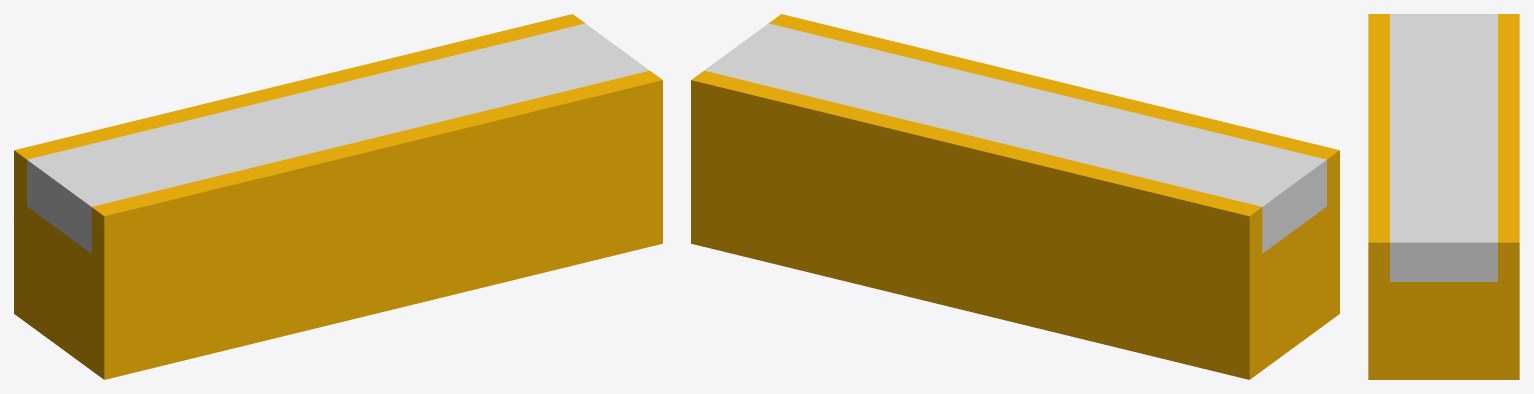
The model's file is light_bar.dae.
3 renders of one model, left to right at view 1: azimuth 30°, elevation 25°; view 2: azimuth 150°, elevation 25°; view 3: azimuth 270°, elevation 25°, orthographic. The views are drawn at different scales.
Visible parts, largest first — view 1: Cube; view 2: Cube; view 3: Cube.
Boxes of the visible parts, x1=… form: Cube: x1=14, y1=14, x2=662, y2=379; Cube: x1=691, y1=14, x2=1339, y2=379; Cube: x1=1368, y1=14, x2=1519, y2=379.
Bounding box in the file's own units: 0.25 × 0.07 × 0.07.
